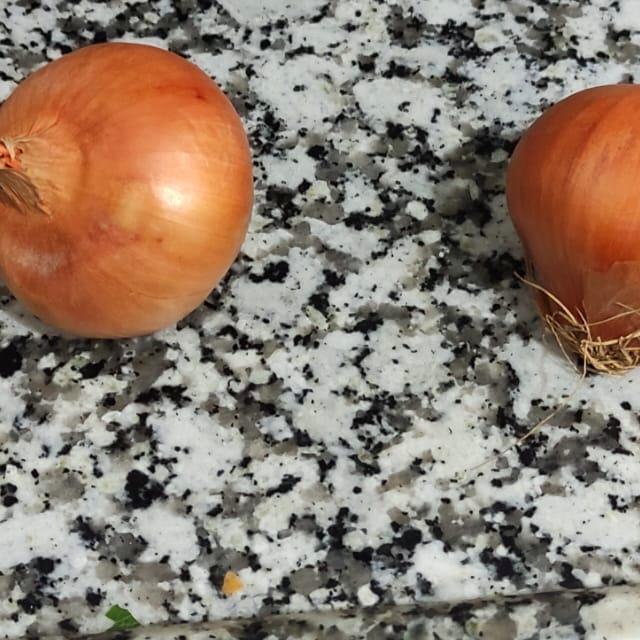onion: (0, 0, 323, 406), (490, 0, 640, 412)
